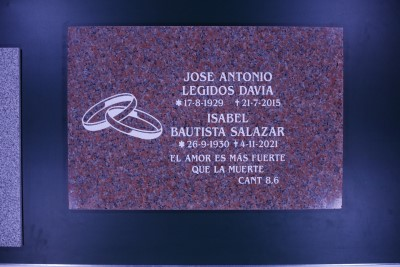lapidas: (67, 26, 341, 209)
